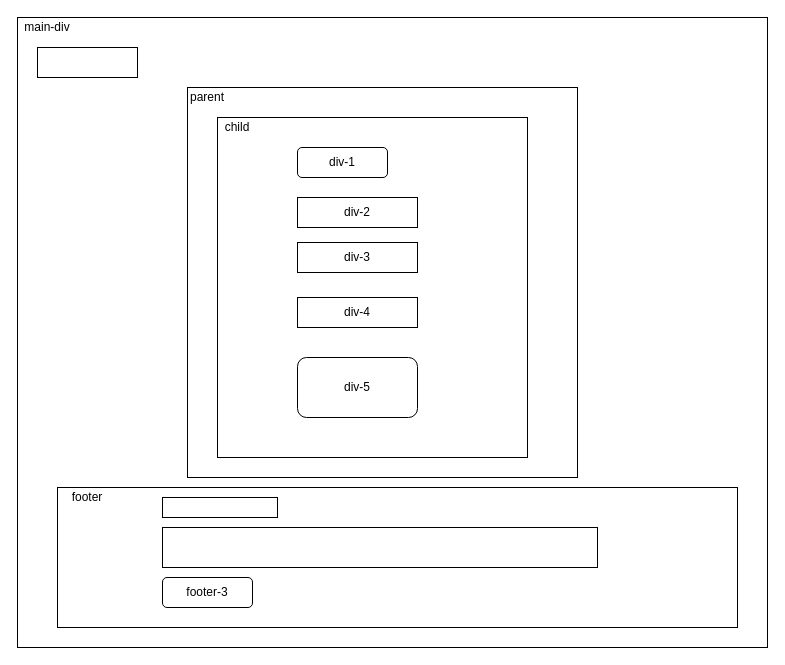
This 785x665 diagram has some shape labels left out. Each missing label, with the centre of its shape:
"footer-1" goes at (x=220, y=507).
"footer-2" goes at (x=380, y=547).
"LOGO" goes at (x=87, y=62).
